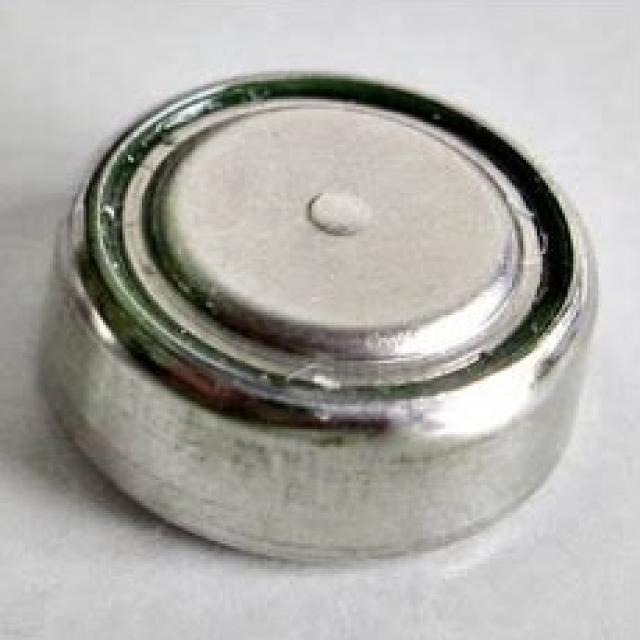battery: (12, 0, 640, 580)
